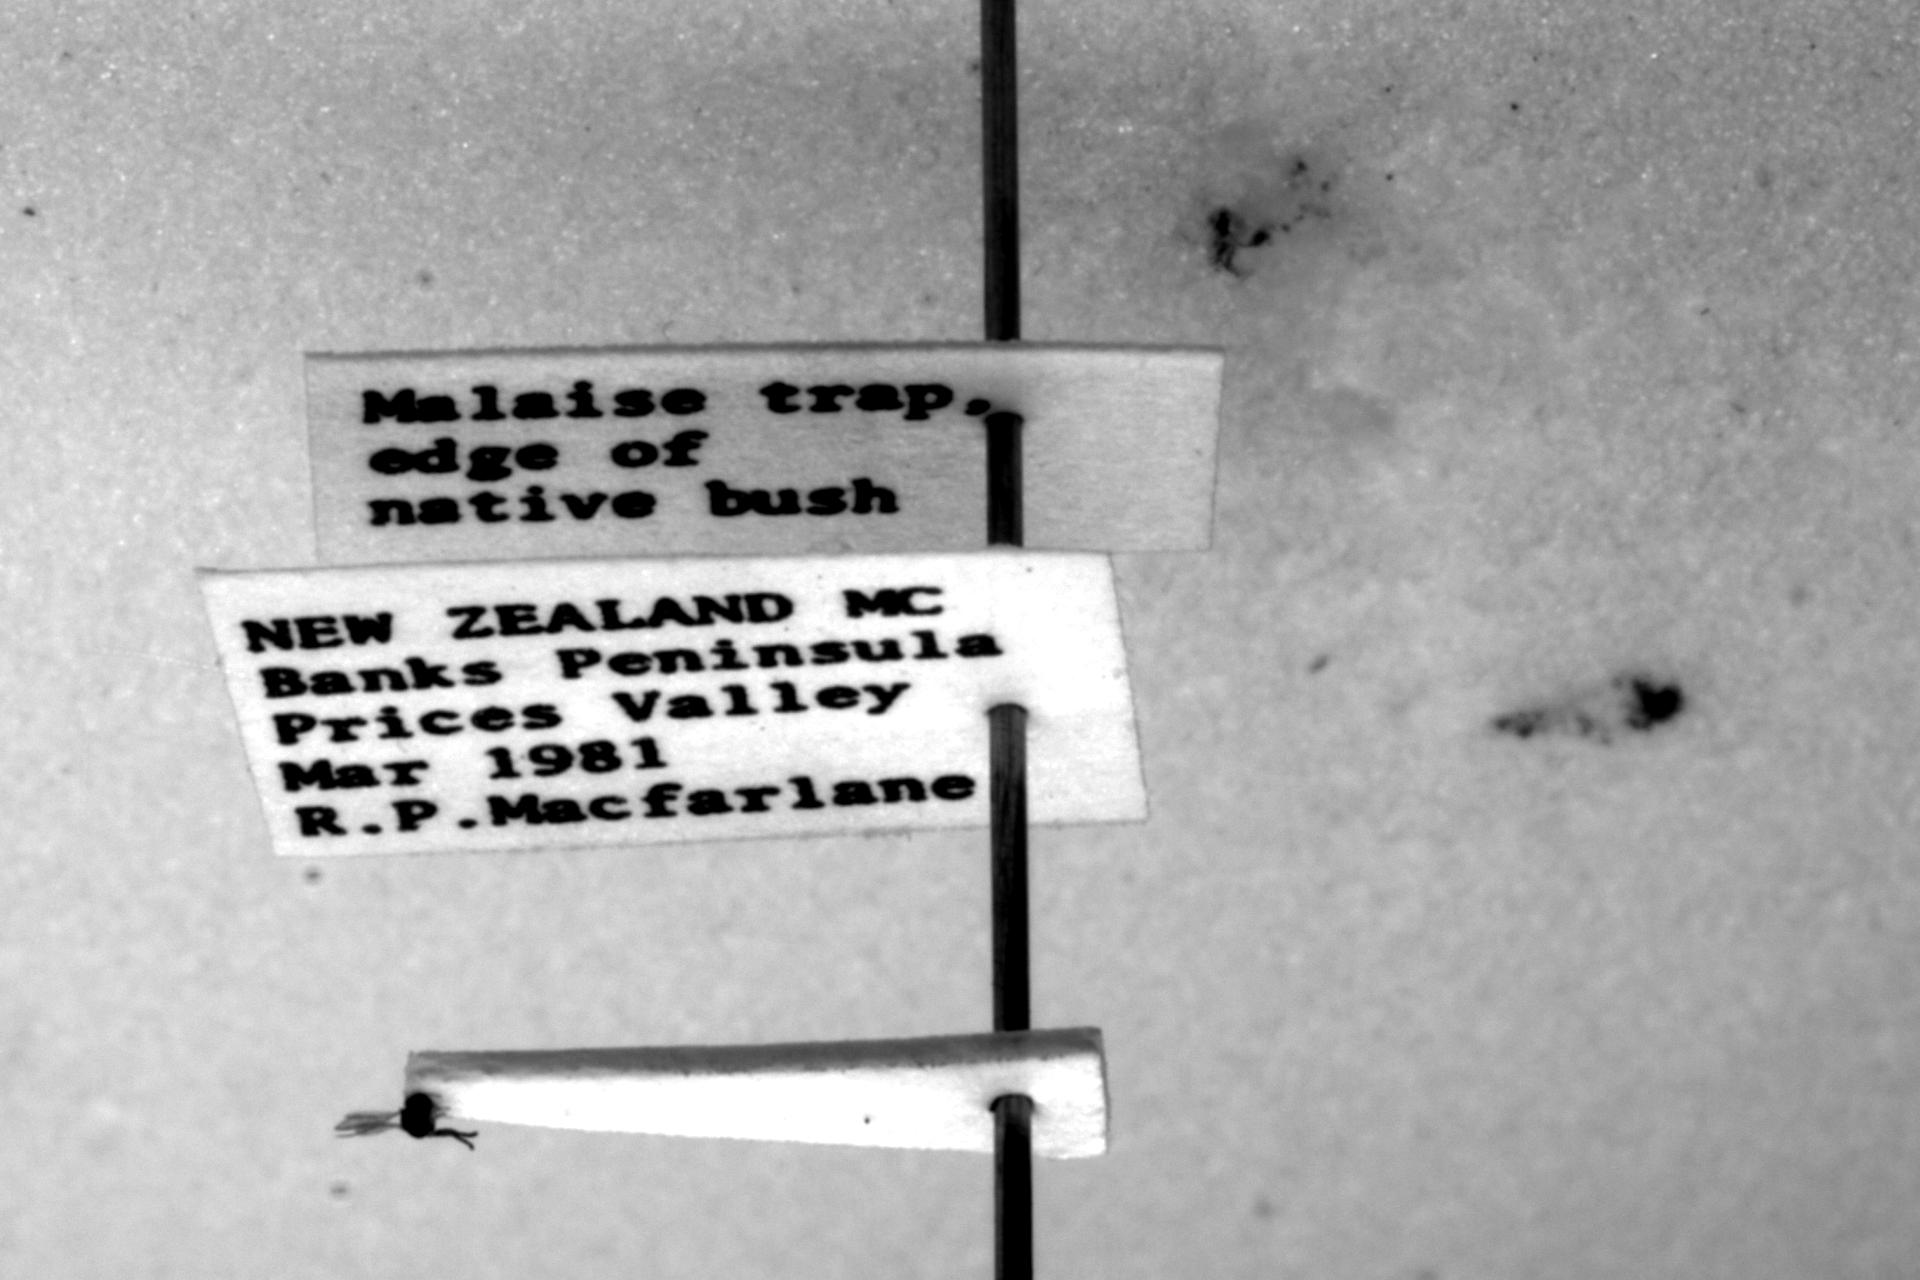typed_label: (199, 551, 1147, 854), (307, 341, 1223, 563)
